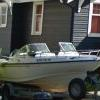Boat: (1, 36, 100, 93)
